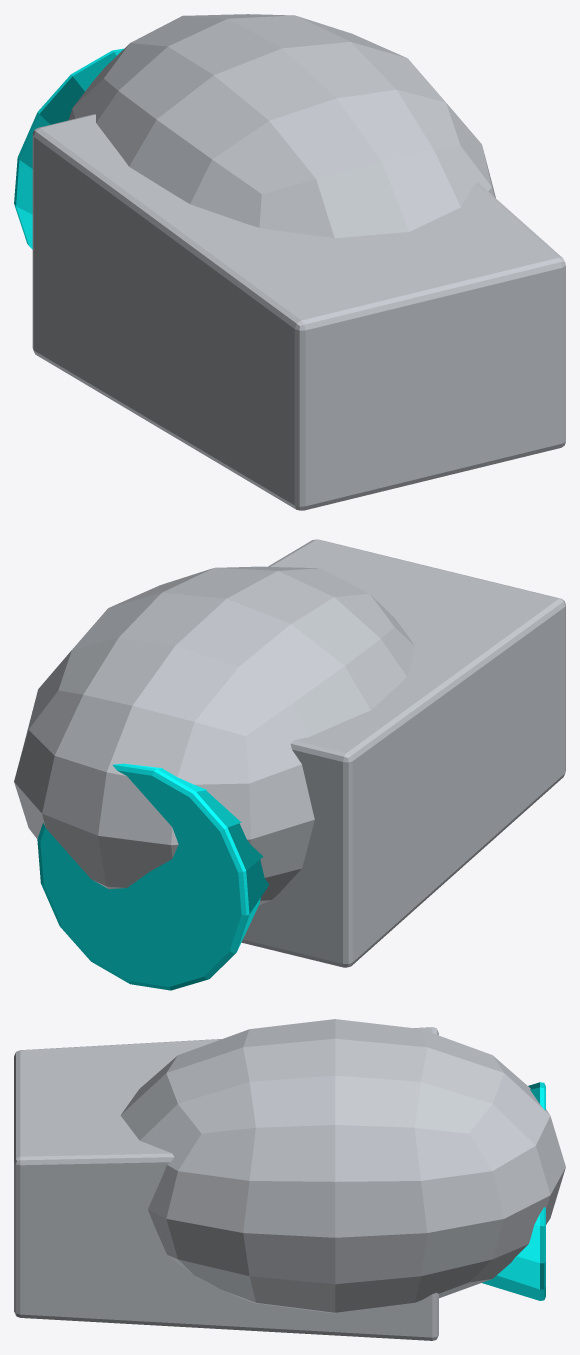
3 views of the same model, one above another, from view 1: azimuth 30°, elevation 25°; view 2: azimuth 150°, elevation 25°; view 3: azimuth 270°, elevation 25° (orthographic). The views are drawn at different scales.
Parts seen in each view (by area): view 1: part_11_gltf_export_temp; view 2: part_11_gltf_export_temp; view 3: part_11_gltf_export_temp.
Part boxes in pixels (x1,y1,x2,y2): part_11_gltf_export_temp: [14, 14, 565, 510]; part_11_gltf_export_temp: [14, 539, 565, 990]; part_11_gltf_export_temp: [14, 1019, 565, 1340].
Bounding box in the file's own units: 0.656 × 0.5424 × 1.02.
